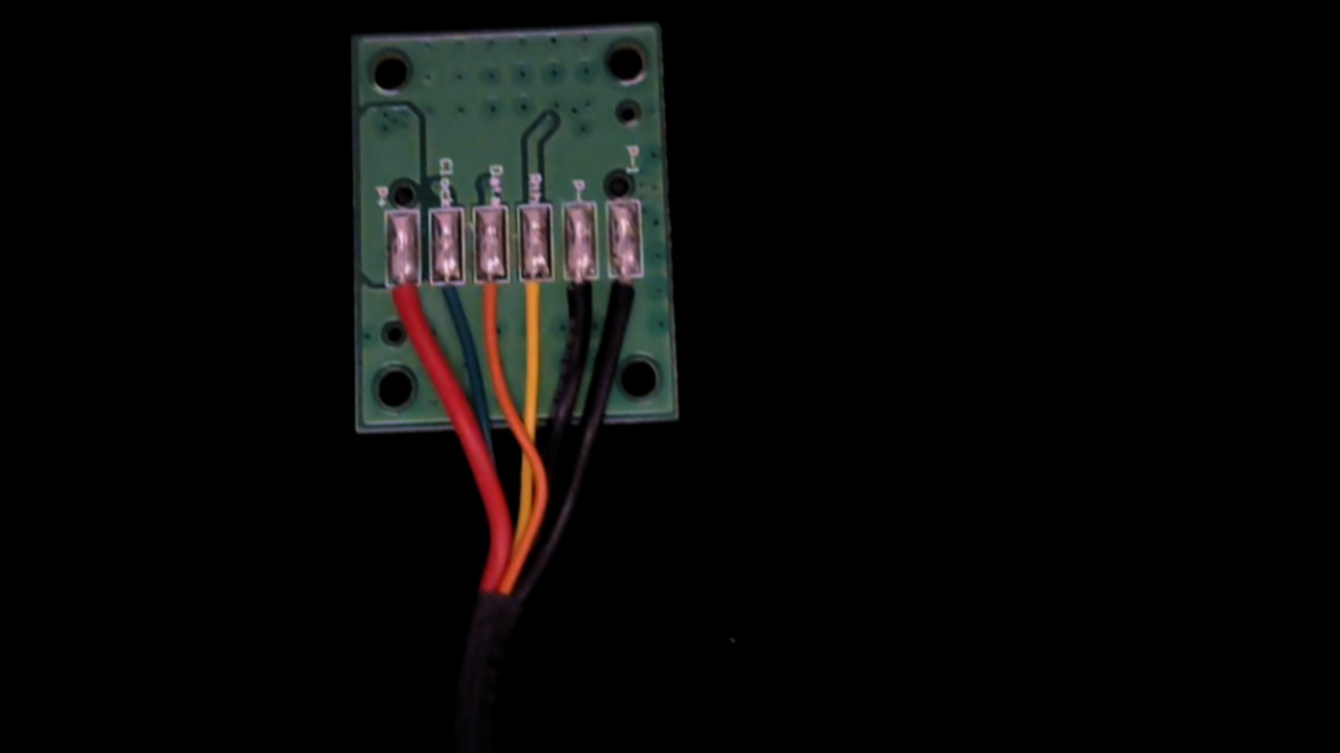Black: (562, 255, 600, 338)
Black1: (608, 258, 646, 340)
Green: (431, 262, 465, 337)
Orange: (474, 258, 508, 335)
Red: (387, 264, 421, 344)
Yellow: (519, 255, 554, 338)
